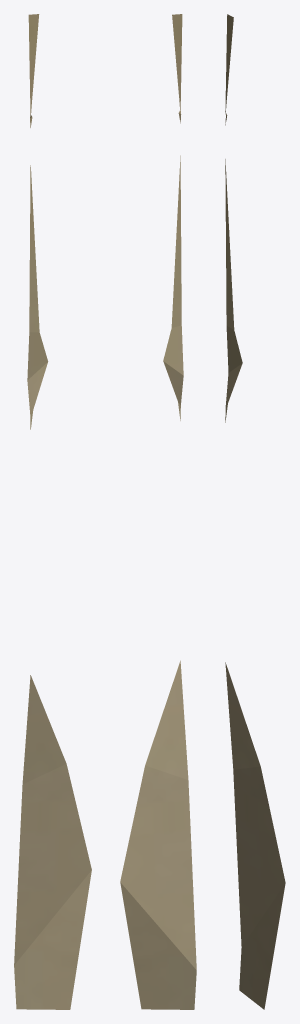
The picture shows the model from 3 angles, left to right: view 1: azimuth 30°, elevation 25°; view 2: azimuth 210°, elevation 25°; view 3: azimuth 330°, elevation 25°; orthographic projection.
Bounding box in the file's own units: 0.0536 × 0.8374 × 0.0249.
Materials: 1 (1 with a texture image).
